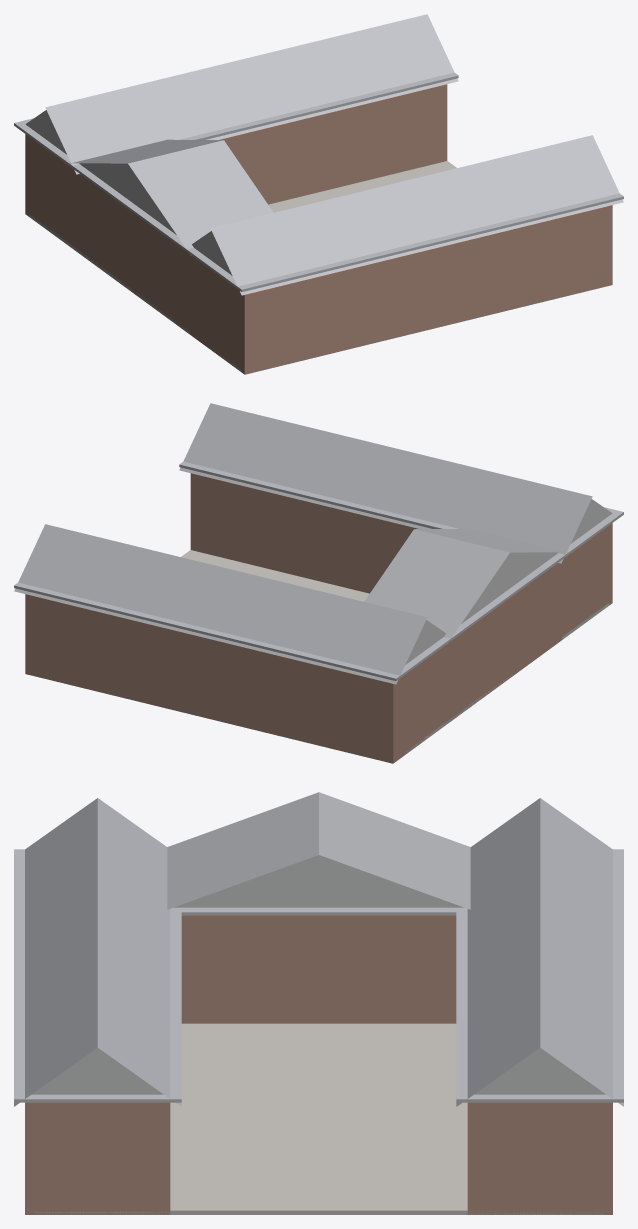
The model's file is 10_traditional_houses-07.glb.
The picture shows the model from 3 angles, top to bottom: view 1: azimuth 30°, elevation 25°; view 2: azimuth 150°, elevation 25°; view 3: azimuth 270°, elevation 25°; orthographic projection. The views are drawn at different scales.
Size of the model in its own units: 18.7 by 6.2 by 19.3.
